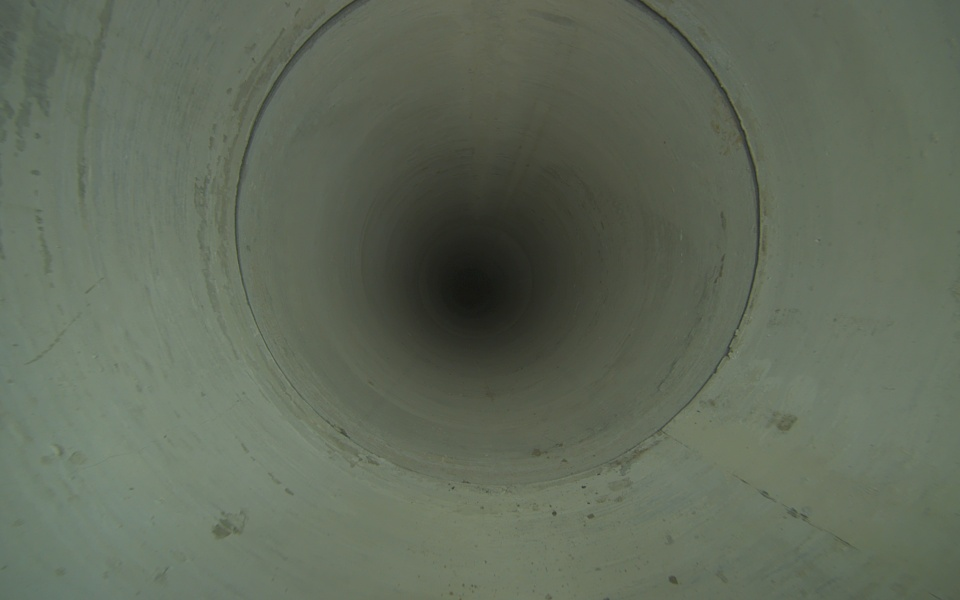circle1: (233, 0, 763, 488)
circle2: (453, 270, 496, 311)
